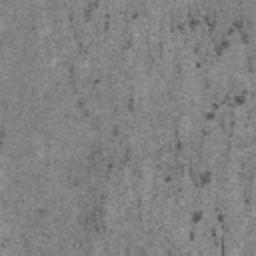Oxide scale of temperature system: (82, 0, 255, 256), (67, 64, 134, 137), (82, 205, 110, 237), (36, 207, 49, 220), (0, 125, 6, 148), (106, 164, 114, 169)
